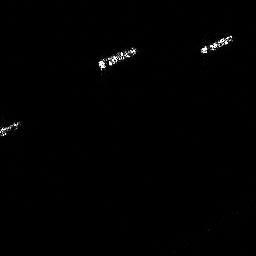ship: (98, 46, 138, 73), (199, 33, 233, 55), (1, 120, 22, 136)
